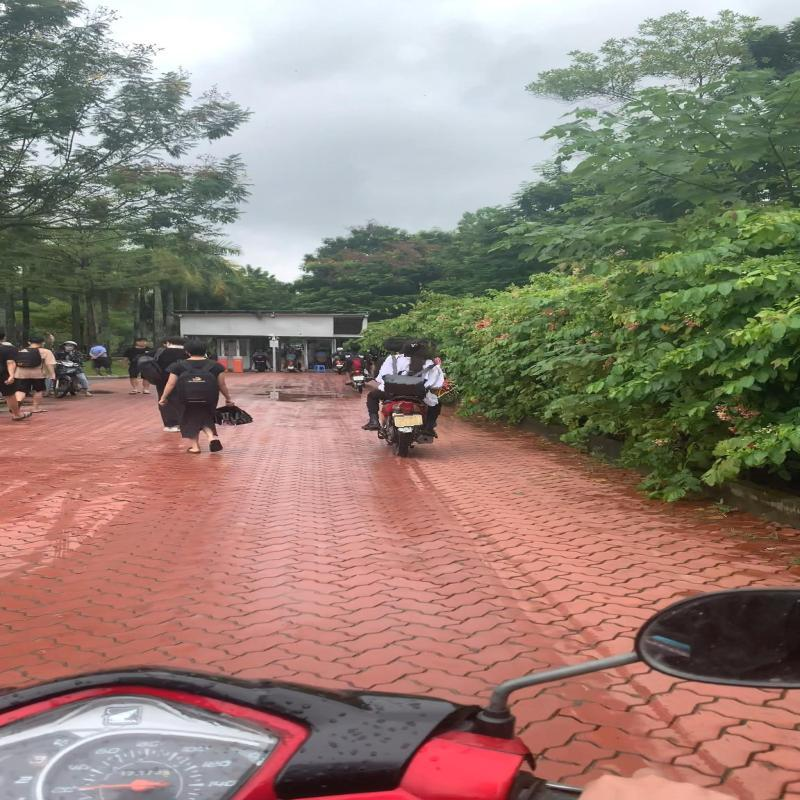licenseplate: (392, 413, 426, 428)
motorcyclist: (358, 331, 460, 462)
nohelmet: (403, 338, 432, 357), (382, 336, 406, 352)
